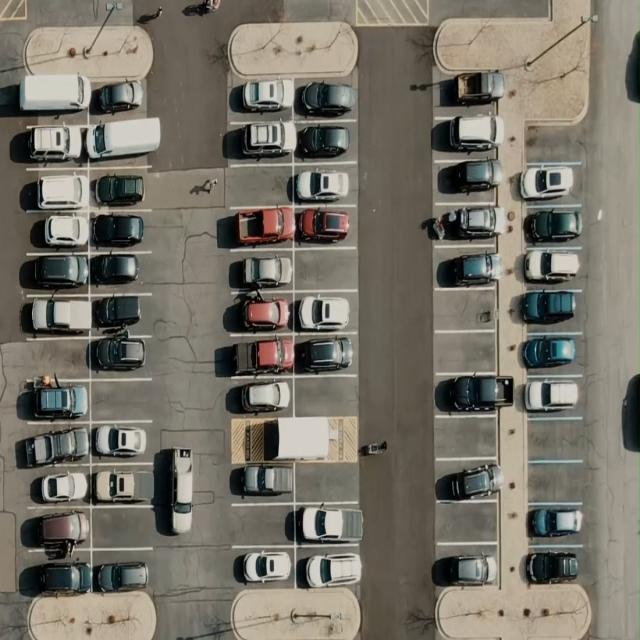space-empty: (434, 285, 500, 332), (224, 162, 293, 206), (229, 502, 295, 547), (90, 506, 160, 548), (22, 338, 90, 381), (293, 246, 357, 291), (294, 374, 358, 419), (522, 418, 588, 461), (436, 416, 500, 460), (294, 460, 358, 504), (89, 378, 154, 421), (436, 502, 500, 545), (530, 116, 584, 162), (526, 462, 584, 503), (438, 338, 495, 370)
space-occupied: (86, 114, 160, 166), (18, 117, 86, 167), (21, 288, 90, 337), (294, 498, 359, 550), (14, 80, 90, 124), (298, 546, 364, 596), (431, 201, 504, 246), (434, 370, 503, 417), (293, 287, 357, 335), (26, 377, 90, 425), (433, 245, 501, 290), (225, 204, 293, 249), (226, 371, 294, 416), (226, 544, 295, 588), (430, 70, 500, 113), (226, 248, 293, 292), (25, 552, 92, 596), (518, 158, 582, 204), (26, 252, 90, 298), (520, 332, 585, 377), (89, 164, 154, 209), (229, 76, 294, 121), (518, 246, 586, 289), (228, 120, 294, 164), (434, 544, 500, 588), (293, 204, 357, 249), (292, 161, 356, 206), (90, 461, 154, 506), (26, 462, 90, 507), (436, 458, 500, 503), (22, 166, 86, 211), (434, 113, 504, 154), (92, 548, 153, 594), (521, 206, 586, 249), (90, 420, 153, 464), (517, 289, 583, 331), (294, 334, 358, 377), (294, 78, 358, 121), (228, 295, 292, 338), (27, 508, 92, 550), (27, 210, 90, 253), (436, 159, 502, 200), (526, 501, 586, 546), (520, 373, 584, 415), (90, 210, 154, 252), (89, 250, 152, 292), (296, 120, 356, 163), (90, 334, 150, 377), (232, 462, 292, 505), (226, 339, 293, 377), (90, 74, 148, 116), (26, 426, 90, 462), (527, 546, 584, 585), (91, 294, 146, 334)
